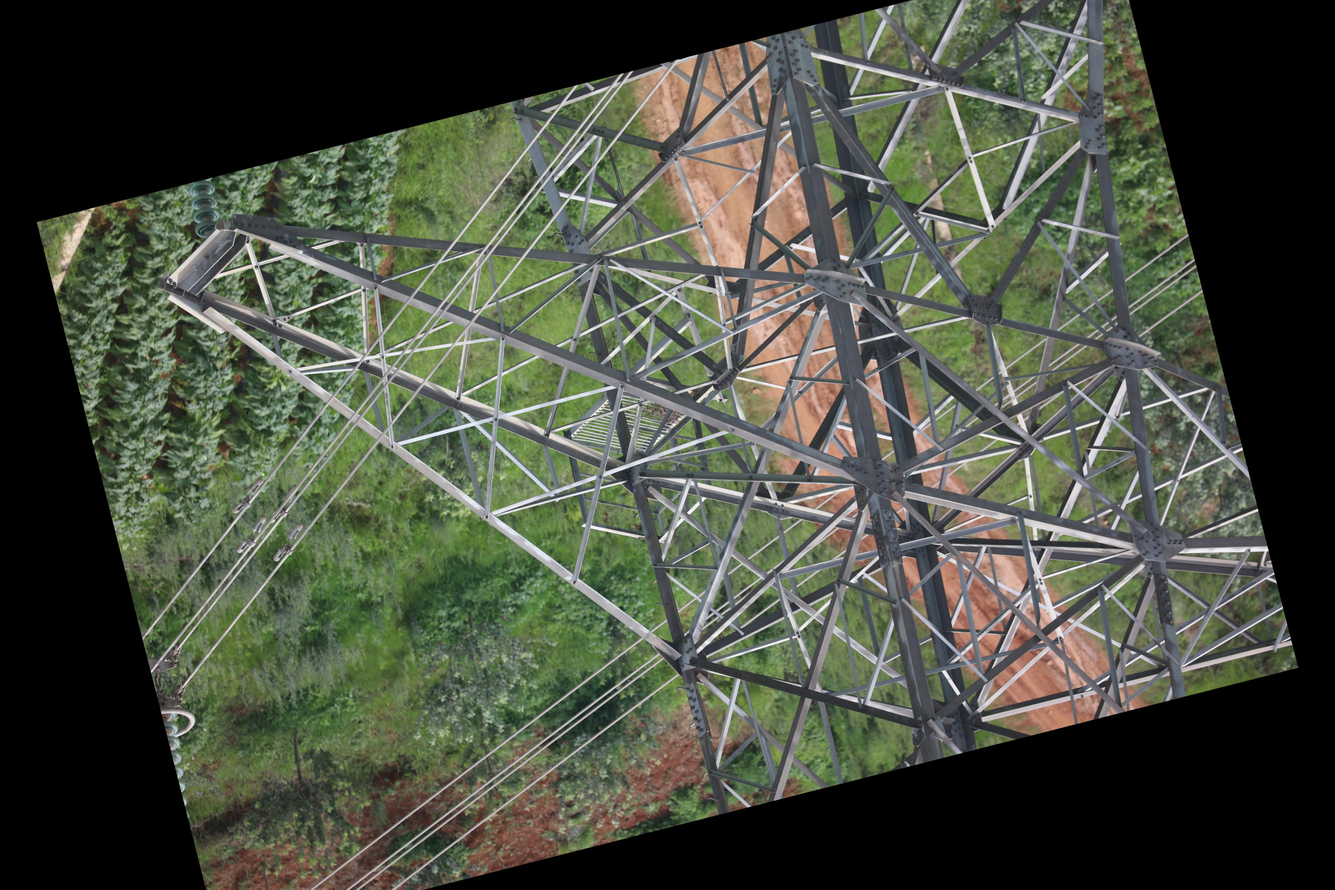damper: (264, 520, 313, 564), (260, 482, 308, 526), (227, 513, 275, 556), (223, 474, 271, 516)
